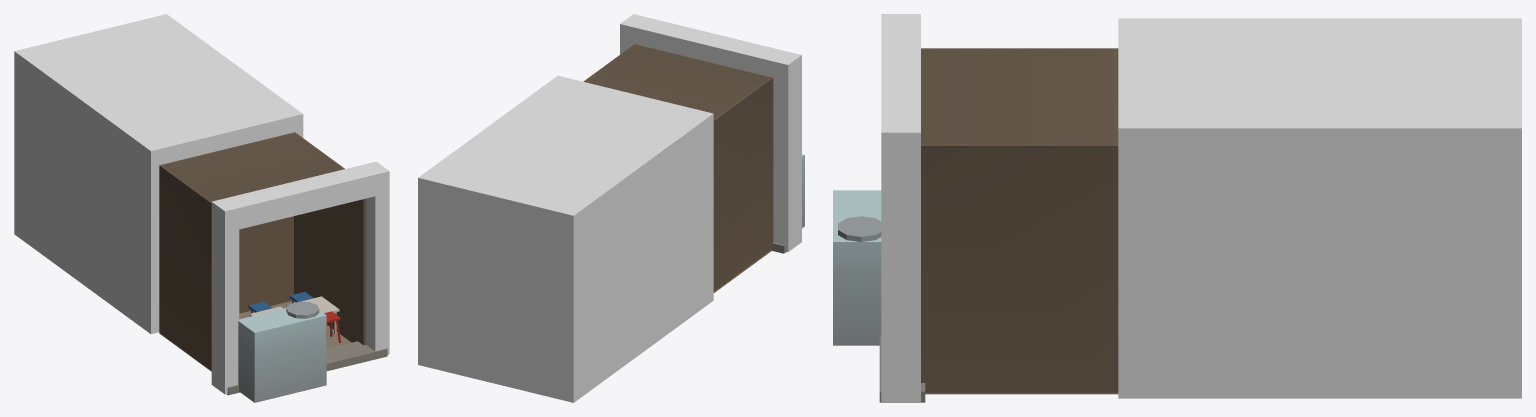
The model's file is tret_quan_pho_32.glb.
3 views of the same model, side by side, from view 1: azimuth 30°, elevation 25°; view 2: azimuth 150°, elevation 25°; view 3: azimuth 270°, elevation 25° (orthographic). The views are drawn at different scales.
Parts seen in each view (by area): view 1: tret_quan_pho_32; view 2: tret_quan_pho_32; view 3: tret_quan_pho_32.
Part boxes in pixels (bbox=[...]): tret_quan_pho_32: bbox=[14, 14, 389, 402]; tret_quan_pho_32: bbox=[418, 14, 804, 402]; tret_quan_pho_32: bbox=[833, 14, 1521, 402].
Bounding box in the file's own units: 3.2 × 3.42 × 7.85.
